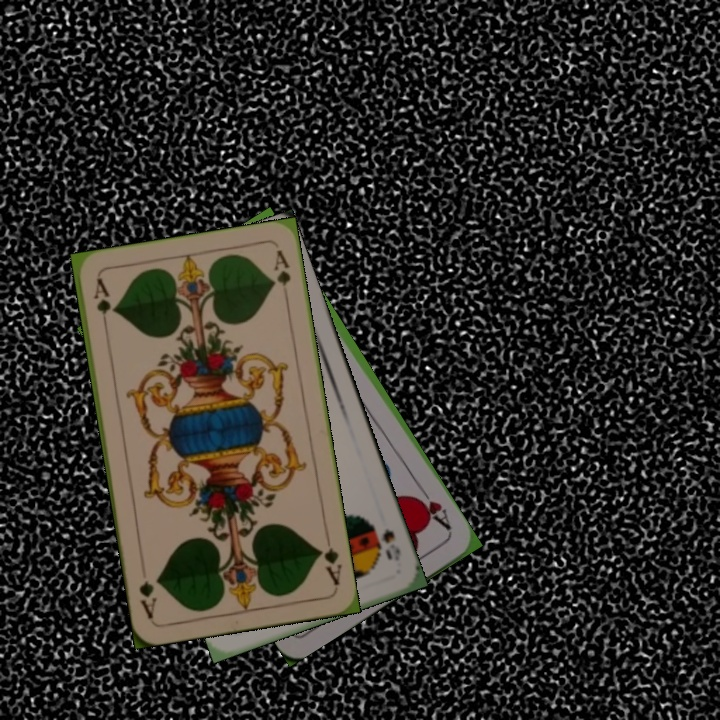GA: (314, 530, 345, 588), (89, 274, 113, 333)
HA: (411, 483, 454, 536)
SO: (378, 524, 403, 564)
